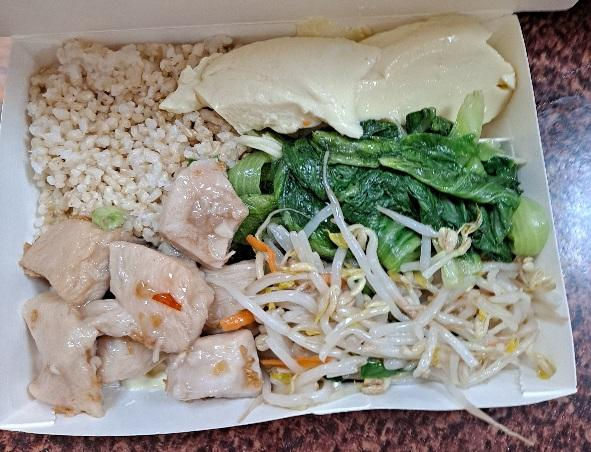big grilled chicken leg: (0, 8, 588, 434)
box: (34, 48, 249, 216)
braised fish fillet: (197, 15, 516, 137), (252, 132, 541, 262), (259, 263, 548, 380)
braised pork: (38, 199, 259, 415)
